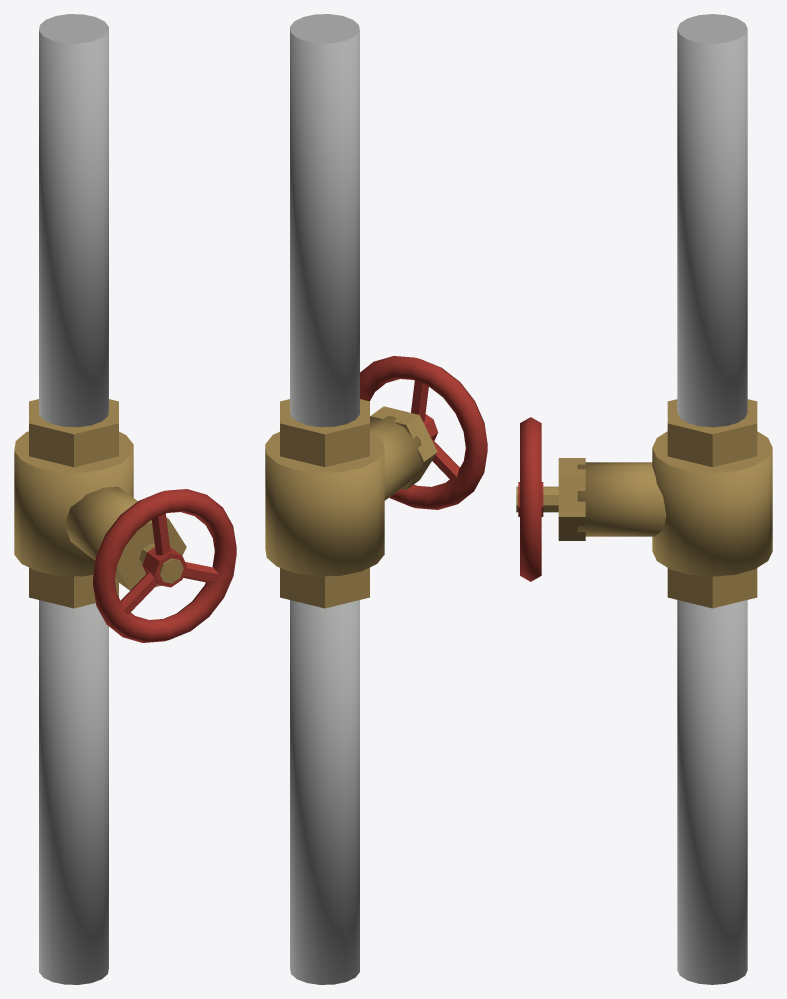
File: valve_closed_ns.obj
The picture shows the model from 3 angles, left to right: view 1: azimuth 30°, elevation 25°; view 2: azimuth 150°, elevation 25°; view 3: azimuth 270°, elevation 25°; orthographic projection.
Visible parts, largest first — view 1: pipe4, pipe1, valve_body, valve_wheel, valve_hex4, valve_bonnet, valve_hex1, valve_nut, valve_hub, valve_spoke1, valve_stem, valve_spoke2 (+1 smaller); view 2: pipe4, pipe1, valve_body, valve_wheel, valve_hex4, valve_hex1, valve_bonnet, valve_nut, valve_spoke1, valve_spoke2; view 3: pipe4, pipe1, valve_body, valve_bonnet, valve_hex4, valve_wheel, valve_hex1, valve_nut.
Part boxes in pixels (x1,y1,x2,y2): pipe4: (39, 14, 108, 427); pipe1: (39, 600, 108, 984); valve_body: (14, 431, 133, 576); valve_wheel: (93, 489, 236, 642); valve_hex4: (29, 399, 118, 467); valve_bonnet: (64, 487, 137, 574); valve_hex1: (29, 567, 118, 608); valve_nut: (115, 517, 186, 590); valve_hub: (142, 547, 187, 587); valve_spoke1: (121, 572, 157, 614); valve_stem: (139, 543, 183, 583); valve_spoke2: (151, 513, 170, 555); pipe4: (290, 14, 359, 427); pipe1: (290, 600, 359, 984); valve_body: (265, 431, 384, 576); valve_wheel: (360, 356, 487, 509); valve_hex4: (280, 399, 369, 467); valve_hex1: (280, 567, 369, 608); valve_bonnet: (370, 416, 421, 500); valve_nut: (370, 406, 437, 489); valve_spoke1: (432, 439, 459, 481); valve_spoke2: (411, 380, 428, 421); pipe4: (677, 14, 747, 427); pipe1: (677, 600, 747, 984); valve_body: (652, 431, 772, 576); valve_bonnet: (577, 462, 666, 536); valve_hex4: (667, 399, 757, 467); valve_wheel: (520, 417, 541, 581); valve_hex1: (667, 568, 757, 608); valve_nut: (558, 458, 585, 540).
Bounding box in the file's own units: 0.16 × 1 × 0.247.
Materials: 3 (3 with a texture image).
